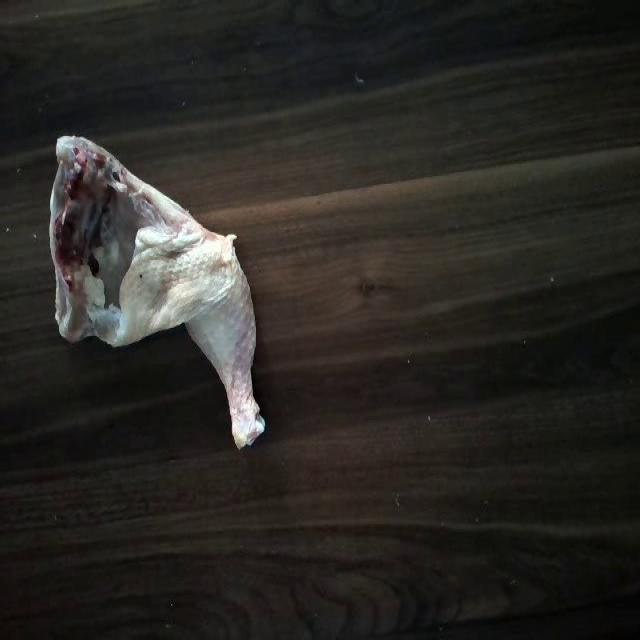quater: (49, 119, 281, 454)
